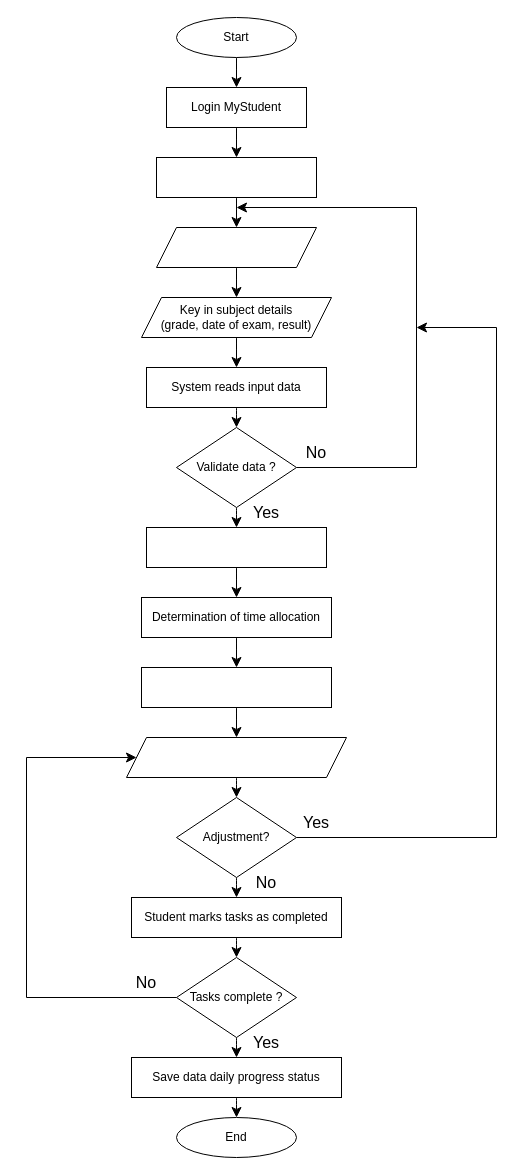
Some shapes in this 524 by 1175 pixel diagram are drawn without their labels. Here are the shapes that lost their labels. From the top down, the centre of each, then its label:
At [236,177]: "Choose Smart Study Planner".
At [236,247]: "Key in study duration".
At [236,547]: "Calculate subject priority scores (DSS)".
At [236,687]: "Automatic schedule generation".
At [236,757]: "Display Schedule & Action Plan".
